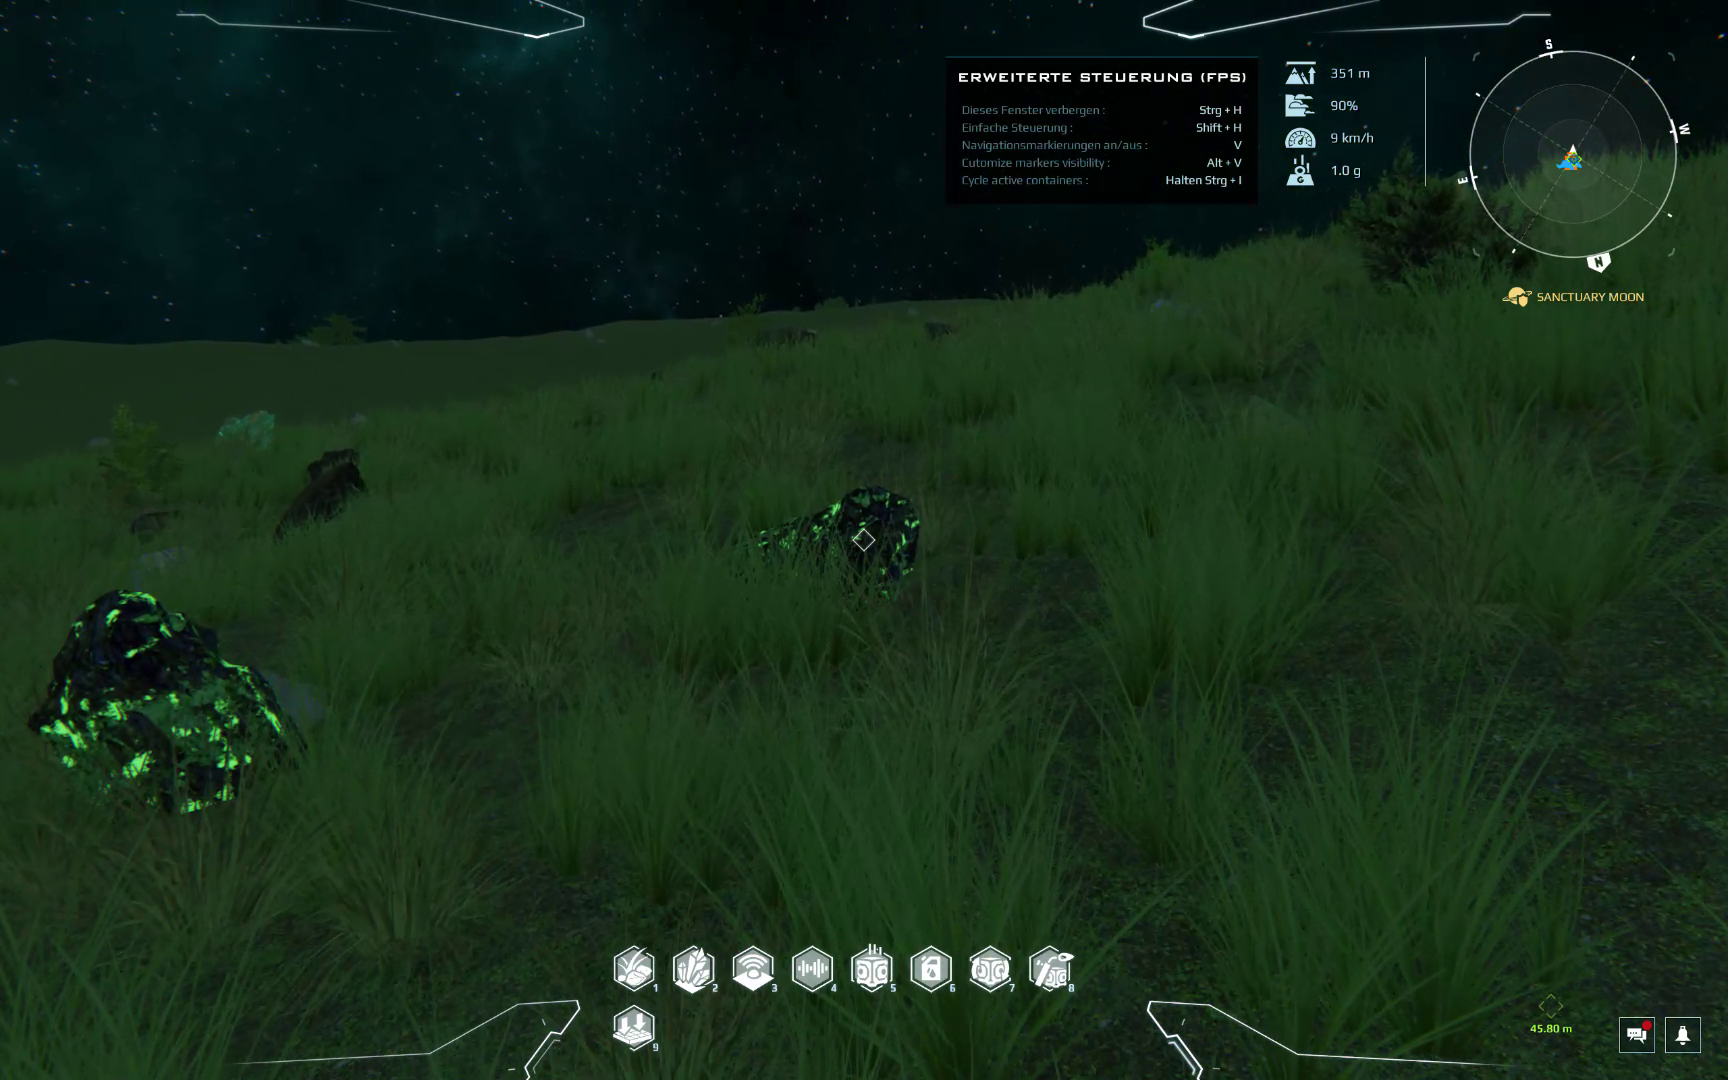Ore: (22, 589, 309, 822), (743, 488, 922, 605), (271, 463, 360, 539), (304, 445, 368, 485), (121, 506, 187, 542)
